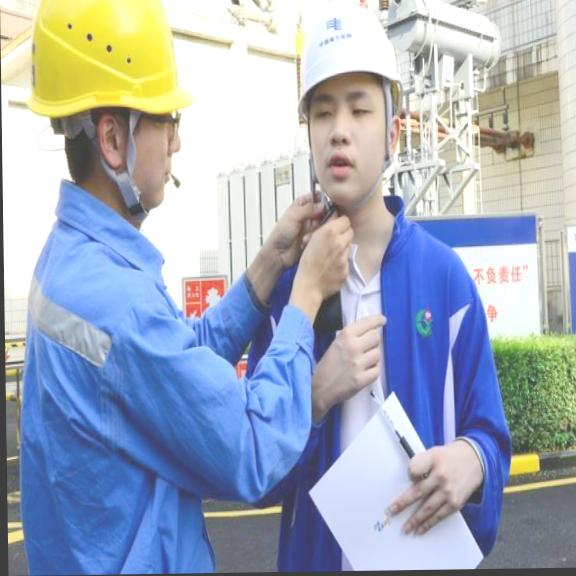no_safety_vest: (30, 221, 229, 576), (275, 240, 476, 524)
